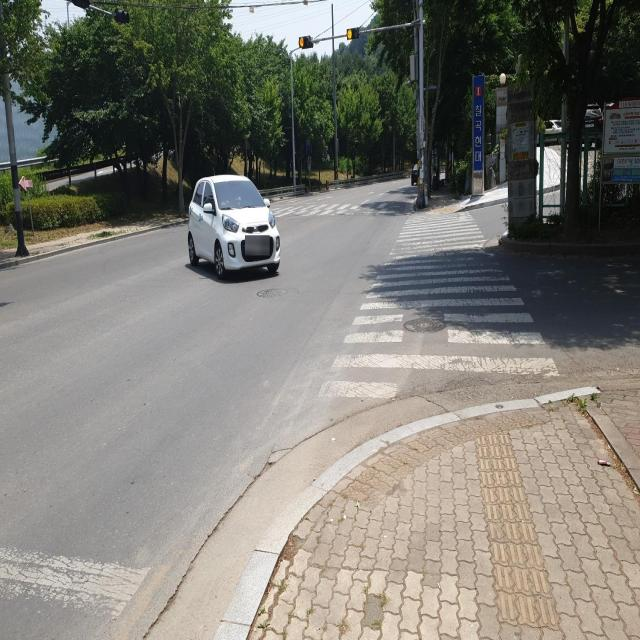횡단보도: (318, 209, 562, 401), (276, 202, 416, 218)
